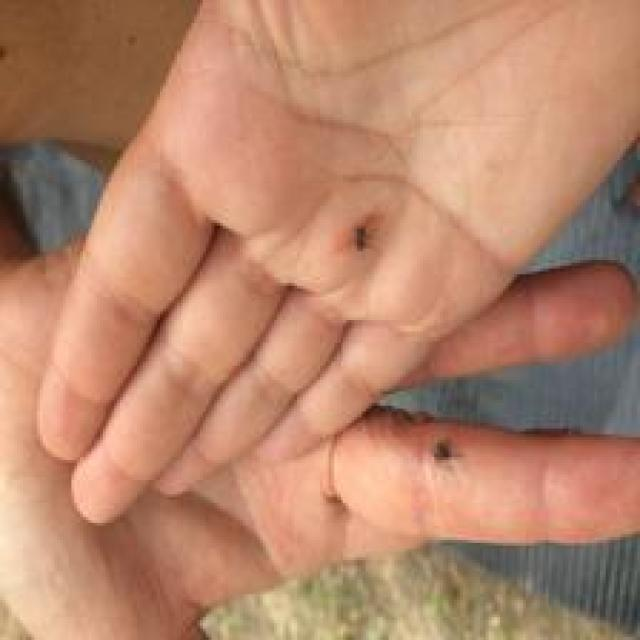Aedes albopictus: (194, 540, 640, 640)
